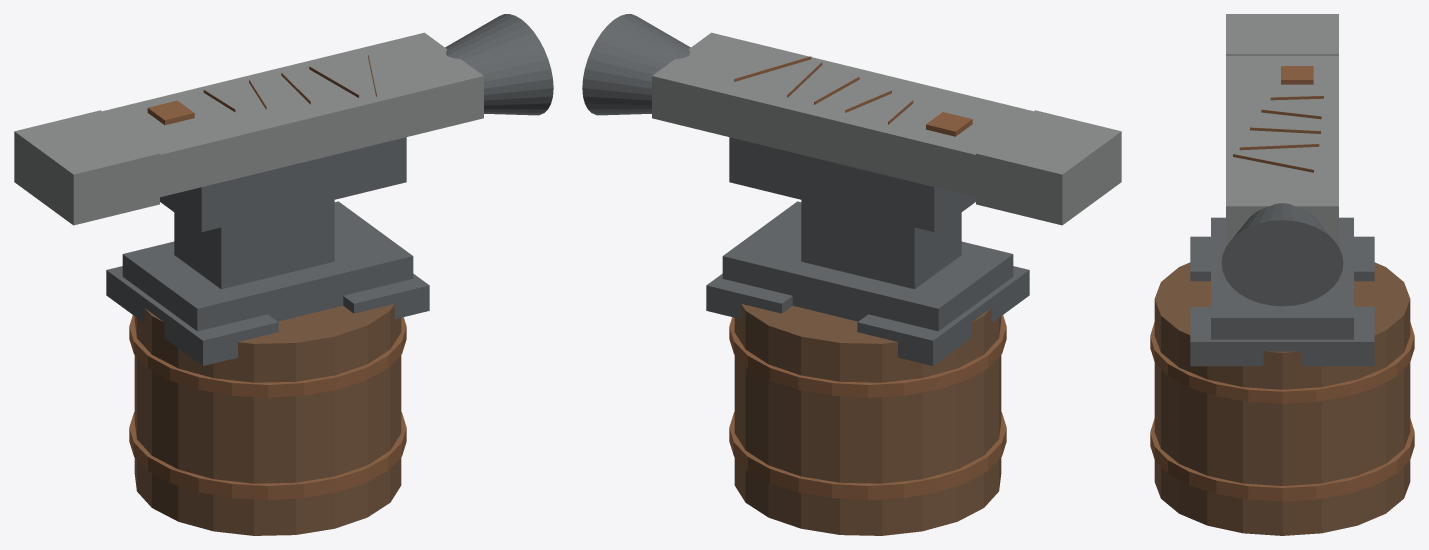
The model's file is anvil085-e259b295ac13.glb.
3 renders of one model, left to right at view 1: azimuth 30°, elevation 25°; view 2: azimuth 150°, elevation 25°; view 3: azimuth 270°, elevation 25°, orthographic. The views are drawn at different scales.
Parts seen in each view (by area): view 1: stump, anvil_face, anvil_base, heel, anvil_shoulders, anvil_waist, horn, stump_band_low, foot_-0.28, stump_band_high, foot_0.28, hardy_hole; view 2: stump, anvil_face, anvil_base, heel, anvil_shoulders, anvil_waist, horn, stump_band_low, foot_-0.28, stump_band_high, foot_0.28, hardy_hole; view 3: stump, anvil_face, horn, anvil_base, foot_0.28, heel, stump_band_low, stump_band_high, foot_-0.28, hardy_hole.
Part boxes in pixels (x1,y1,x2,y2): stump: [134, 304, 401, 535]; anvil_face: [102, 32, 483, 198]; anvil_base: [122, 201, 413, 331]; heel: [14, 110, 159, 225]; anvil_shoulders: [160, 137, 406, 232]; anvil_waist: [174, 200, 334, 289]; horn: [445, 14, 553, 115]; stump_band_low: [129, 412, 406, 499]; foot_-0.28: [106, 266, 278, 365]; stump_band_high: [129, 315, 406, 397]; foot_0.28: [343, 273, 429, 318]; hardy_hole: [147, 100, 194, 125]; stump: [734, 304, 1001, 535]; anvil_face: [652, 32, 1033, 198]; anvil_base: [722, 201, 1013, 331]; heel: [976, 110, 1121, 225]; anvil_shoulders: [729, 137, 975, 232]; anvil_waist: [801, 200, 961, 289]; horn: [582, 14, 690, 115]; stump_band_low: [729, 412, 1006, 499]; foot_-0.28: [857, 266, 1029, 365]; stump_band_high: [729, 315, 1006, 397]; foot_0.28: [706, 273, 792, 318]; hardy_hole: [926, 112, 972, 136]; stump: [1154, 262, 1410, 535]; anvil_face: [1226, 55, 1338, 246]; horn: [1221, 203, 1343, 306]; anvil_base: [1211, 217, 1353, 339]; foot_0.28: [1190, 307, 1374, 366]; heel: [1226, 14, 1338, 55]; stump_band_low: [1150, 418, 1414, 501]; stump_band_high: [1150, 322, 1414, 403]; foot_-0.28: [1190, 236, 1374, 281]; hardy_hole: [1281, 66, 1313, 84].
Size of the model in its own units: 1.77 by 1.41 by 0.89.
